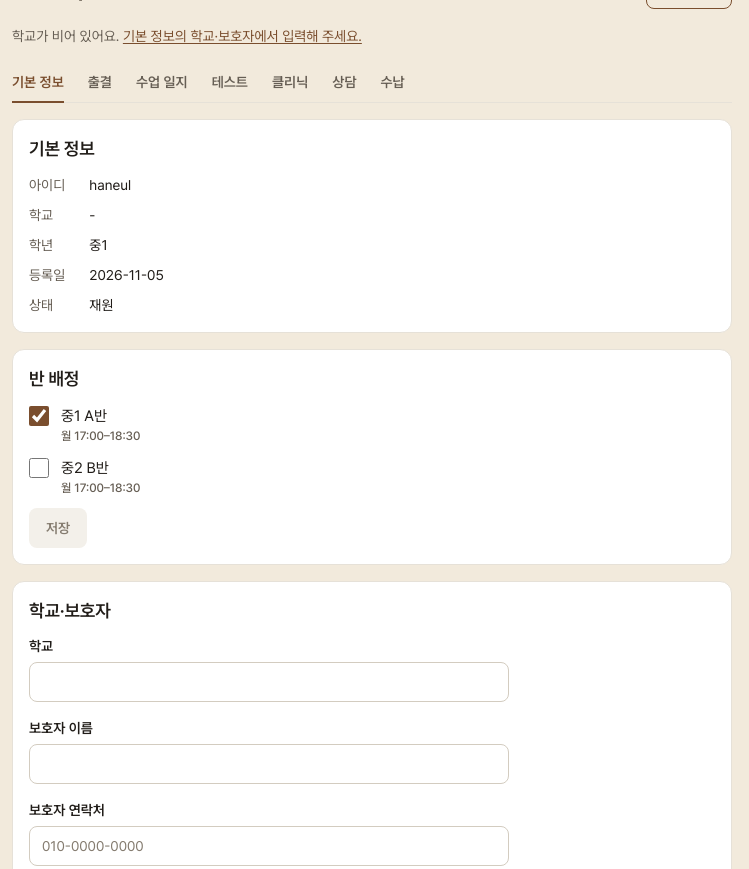
Test: StudentDetailScreen › rejects a malformed guardian phone
Step 1. Type "0101" into the field labelled "보호자 연락처" → (269, 846), box x1=29 y1=826 x2=509 y2=866
(page scrolled)
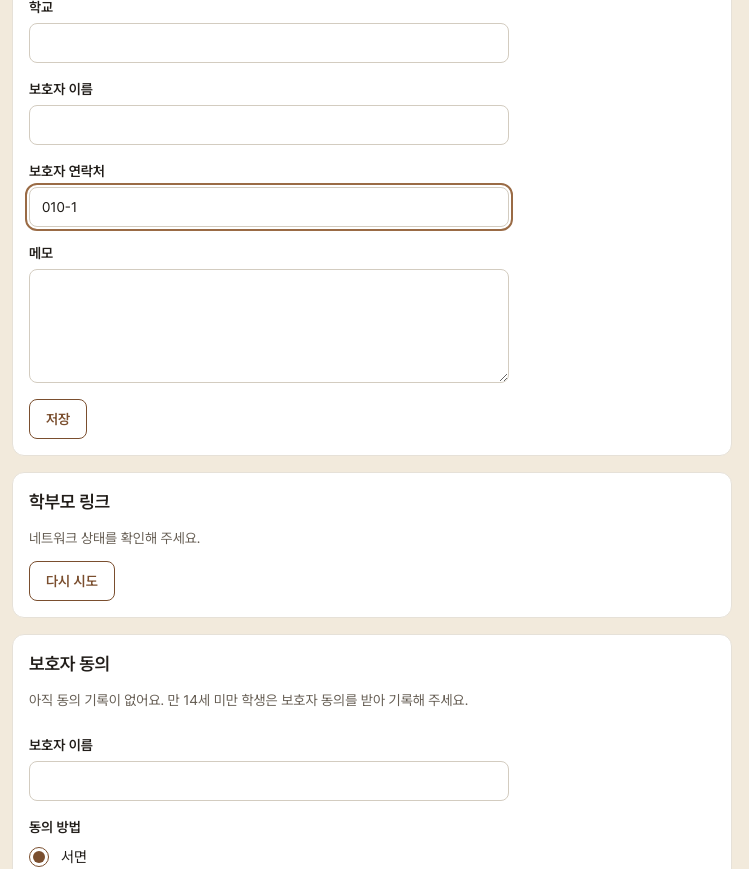
Step 2. Click the button "저장" → (58, 419), box x1=29 y1=399 x2=87 y2=439
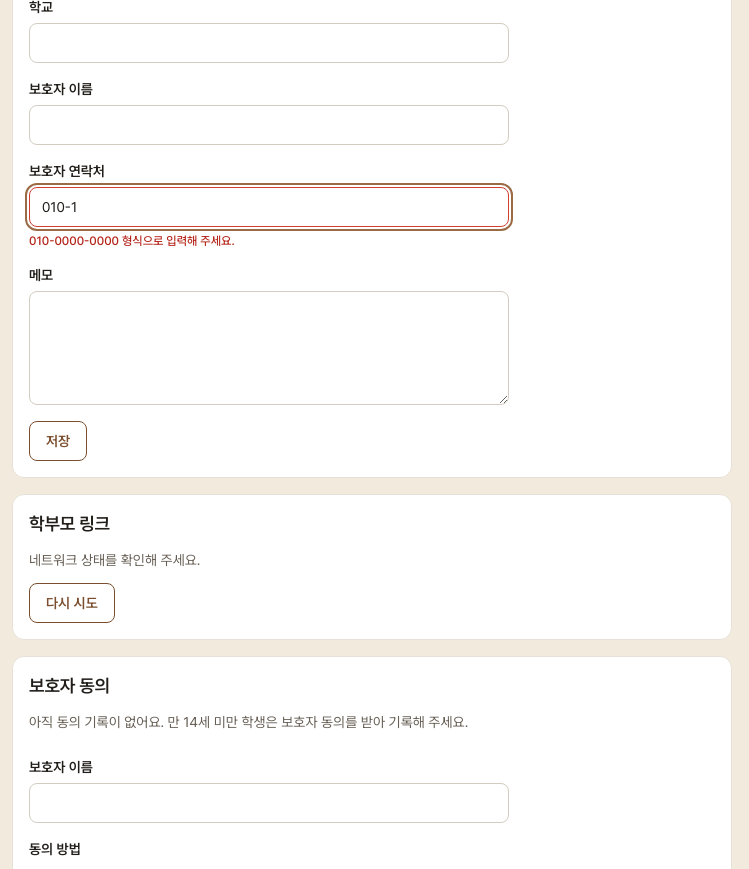
Expected: the text "010-0000-0000 형식으로 입력해 주세요." is shown, x1=29 y1=234 x2=235 y2=248
